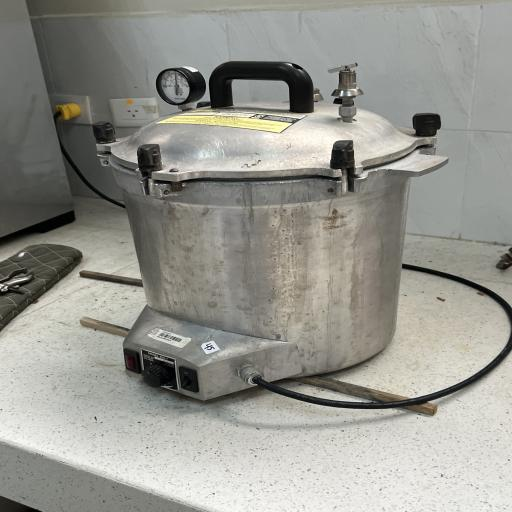Autoclave: (88, 55, 456, 407)
